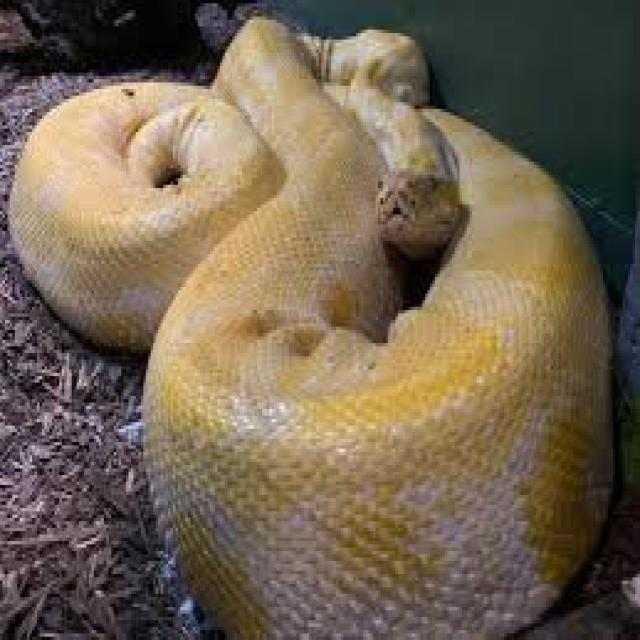Snake: (7, 17, 616, 640)
